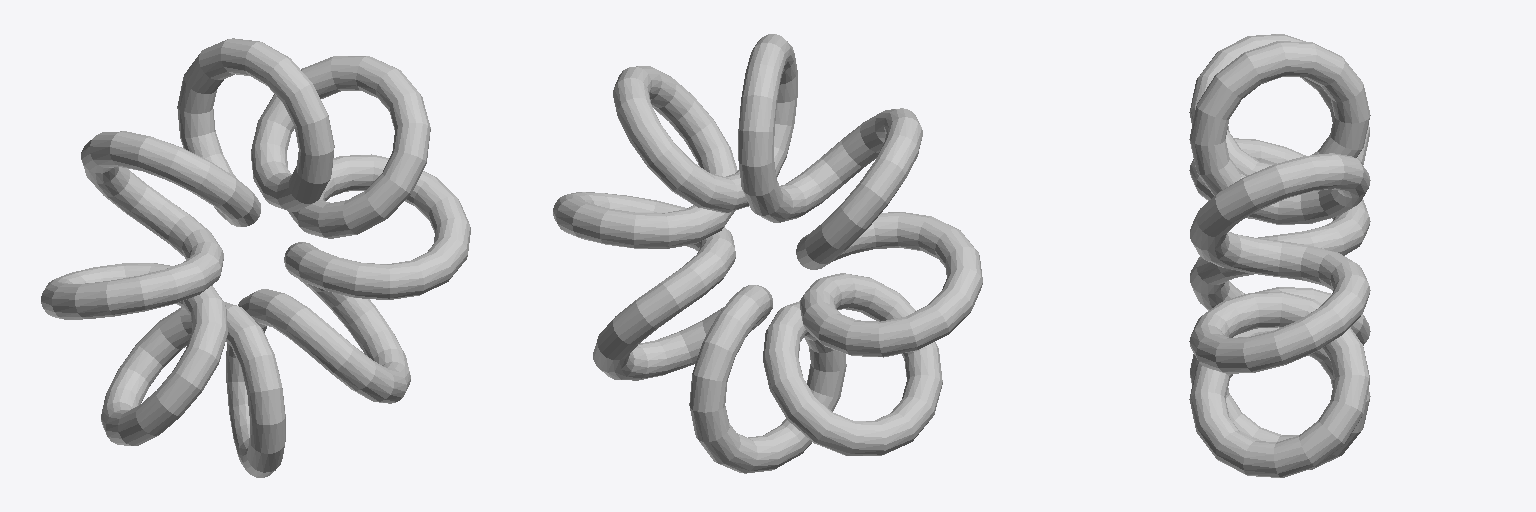
File: helixcoil.obj
3 renders of one model, left to right at view 1: azimuth 30°, elevation 25°; view 2: azimuth 150°, elevation 25°; view 3: azimuth 270°, elevation 25°, orthographic.
Bounding box in the file's own units: 26 × 26 × 10.